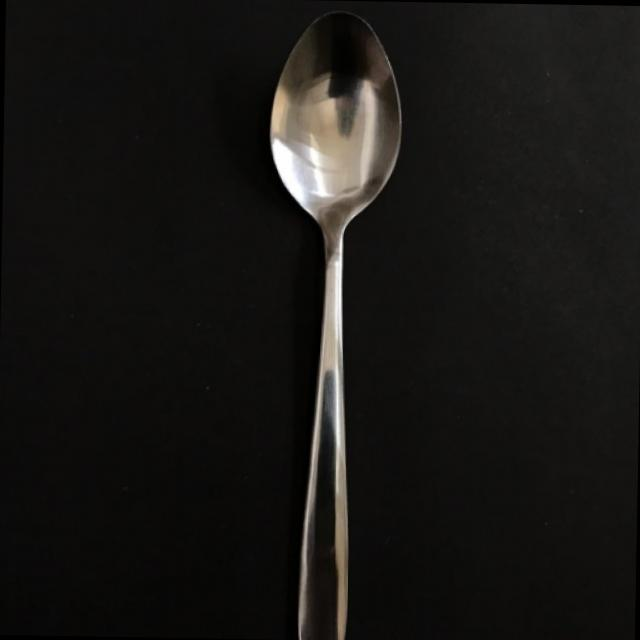spoon: (239, 0, 409, 640)
